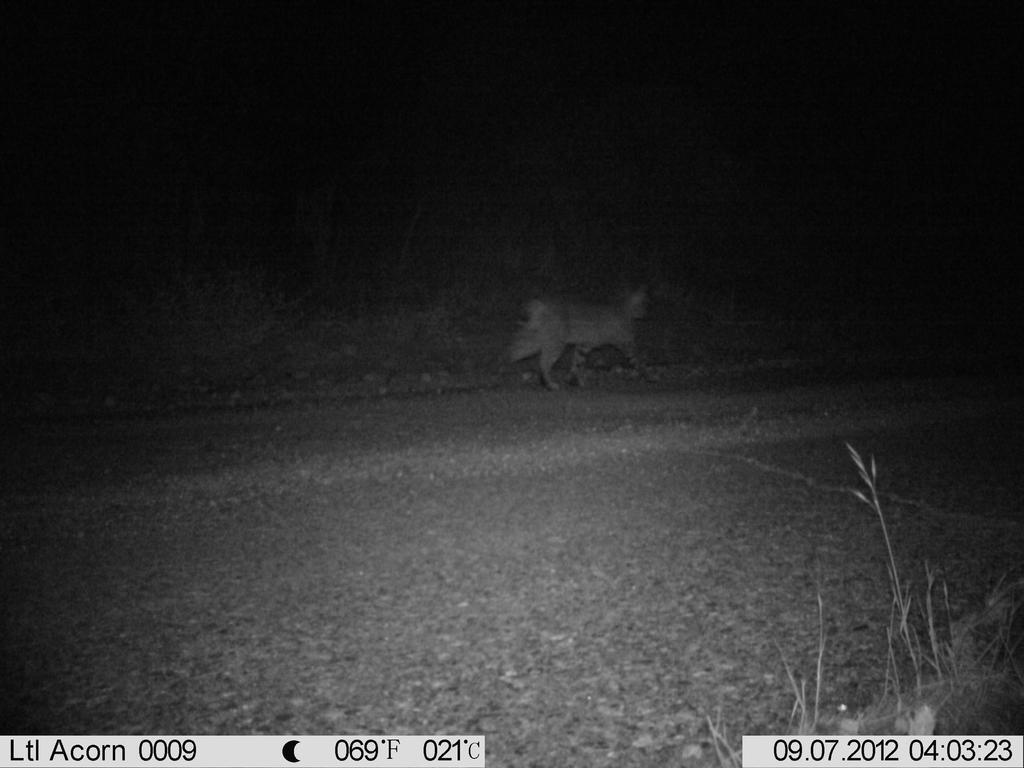bobcat: (502, 269, 663, 401)
